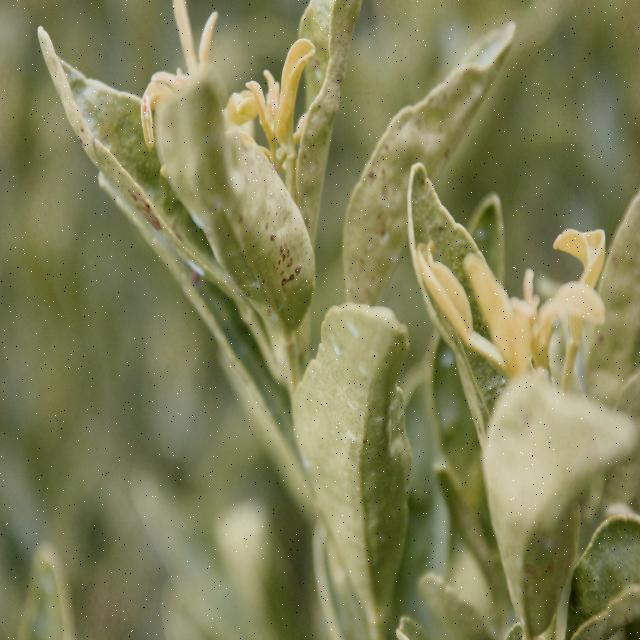canker: (362, 61, 483, 263), (58, 104, 188, 244), (198, 163, 312, 312)
